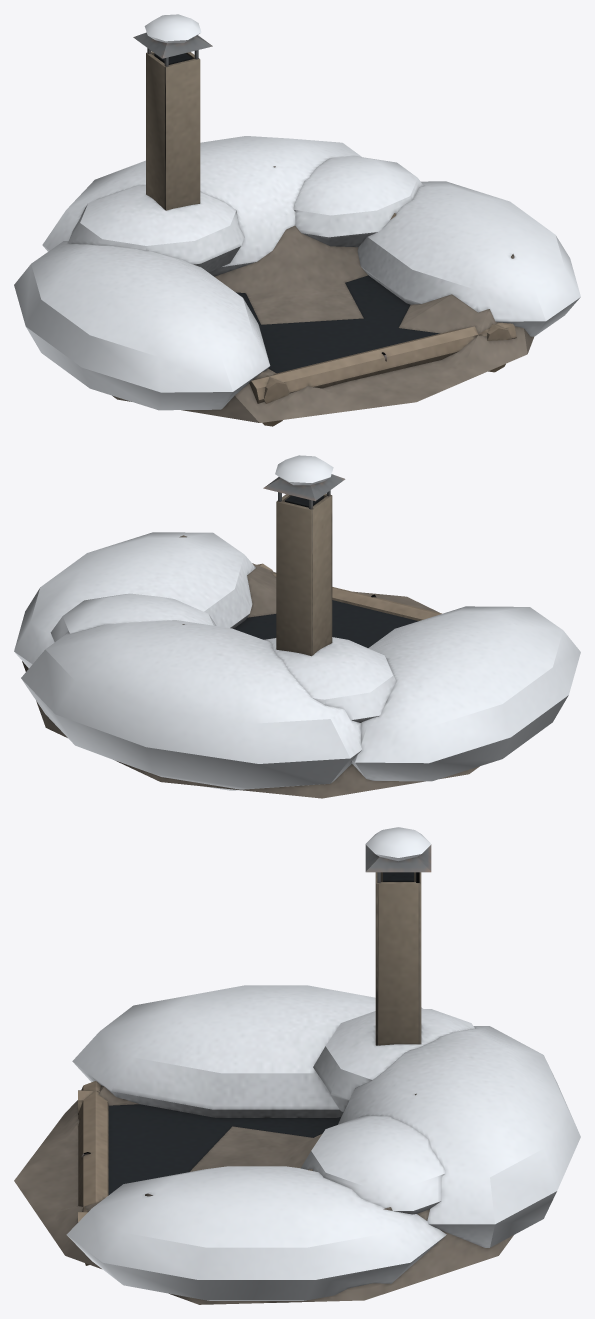
File: ice_cellar.glb
3 renders of one model, top to bottom at view 1: azimuth 30°, elevation 25°; view 2: azimuth 150°, elevation 25°; view 3: azimuth 270°, elevation 25°, orthographic. The views are drawn at different scales.
Visible parts, largest first — view 1: ice_cellar; view 2: ice_cellar; view 3: ice_cellar.
Boxes of the visible parts, x1,y1,x2,y2 form: ice_cellar: (14,14,580,426); ice_cellar: (14,455,580,798); ice_cellar: (14,827,580,1304).
Size of the model in its own units: 3.21 by 1.9 by 2.92.
Materials: 1 (1 with a texture image).
